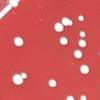white: (11, 34, 25, 48), (60, 16, 74, 29), (12, 75, 24, 86), (7, 0, 23, 8), (73, 49, 84, 60), (54, 23, 64, 33), (58, 36, 68, 46), (47, 78, 57, 88), (79, 64, 89, 74), (78, 40, 88, 49), (20, 71, 28, 80), (64, 94, 76, 100), (76, 14, 84, 21), (79, 93, 87, 100), (80, 31, 87, 38)
